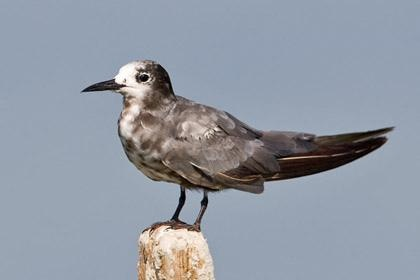bird: (79, 60, 397, 229)
